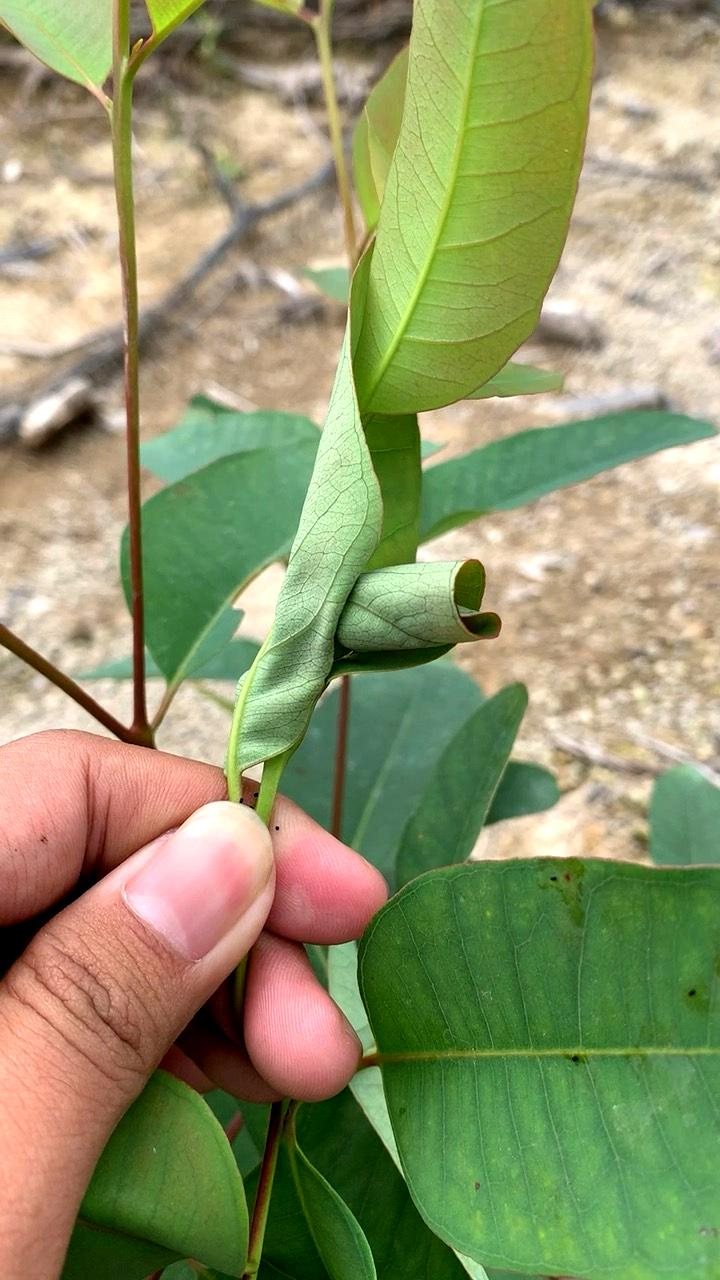Leaf Roller - Leaf: (225, 508, 536, 724)
